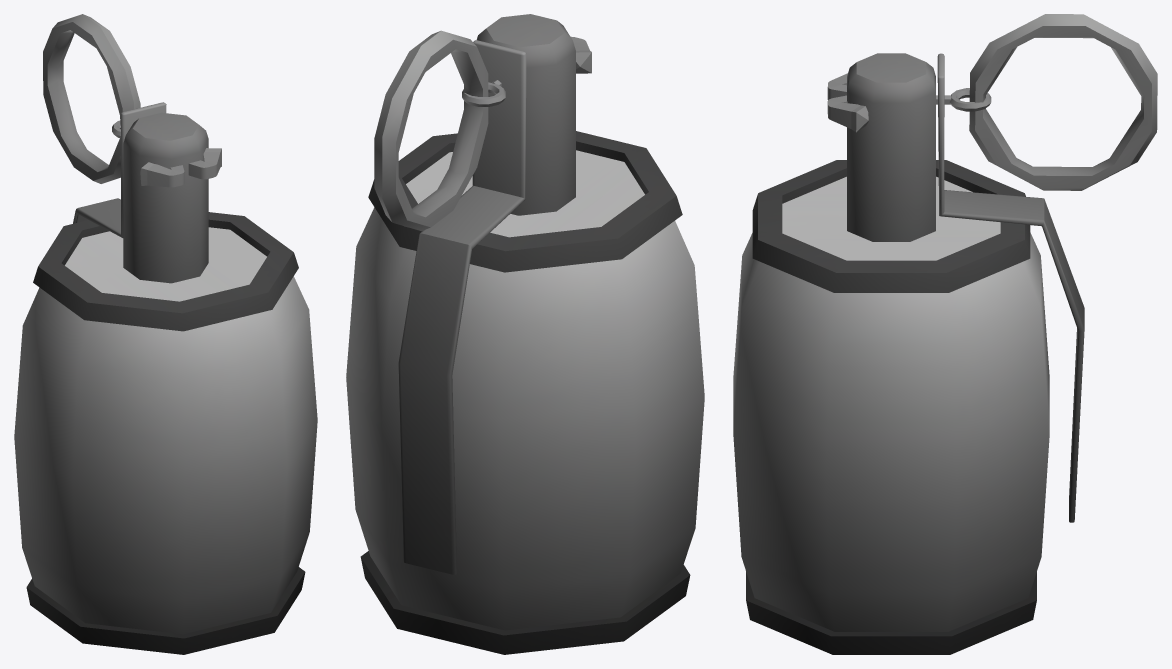
The model's file is SmokeGrenade.fbx.
3 renders of one model, left to right at view 1: azimuth 30°, elevation 25°; view 2: azimuth 150°, elevation 25°; view 3: azimuth 270°, elevation 25°, orthographic. The views are drawn at different scales.
Visible parts, largest first — view 1: SmokeGrenade; view 2: SmokeGrenade; view 3: SmokeGrenade.
Part boxes in pixels (<box>): SmokeGrenade: <box>14,14,317,654</box>; SmokeGrenade: <box>346,14,704,654</box>; SmokeGrenade: <box>733,14,1157,654</box>.
Bounding box in the file's own units: 0.0756 × 0.1014 × 0.1632.
